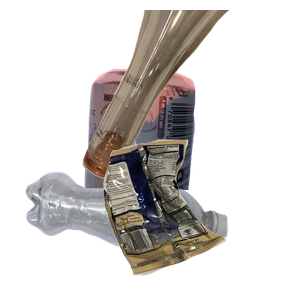glass: (80, 10, 300, 182)
metal: (82, 66, 270, 246)
plastic: (23, 169, 243, 300)
trash: (101, 137, 300, 300)
